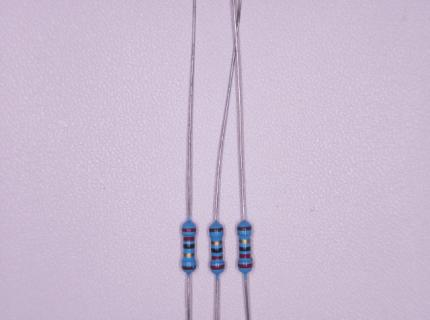Black band: (183, 244, 195, 249), (211, 248, 222, 253), (239, 246, 250, 251)
Brown band: (237, 226, 252, 231), (209, 228, 223, 233), (182, 266, 196, 270)
Gold band: (239, 239, 251, 244), (211, 240, 222, 245), (183, 253, 194, 257)
Red band: (210, 264, 224, 270), (238, 263, 252, 268), (182, 228, 196, 232), (239, 253, 250, 258), (183, 237, 194, 241), (211, 256, 222, 260)
